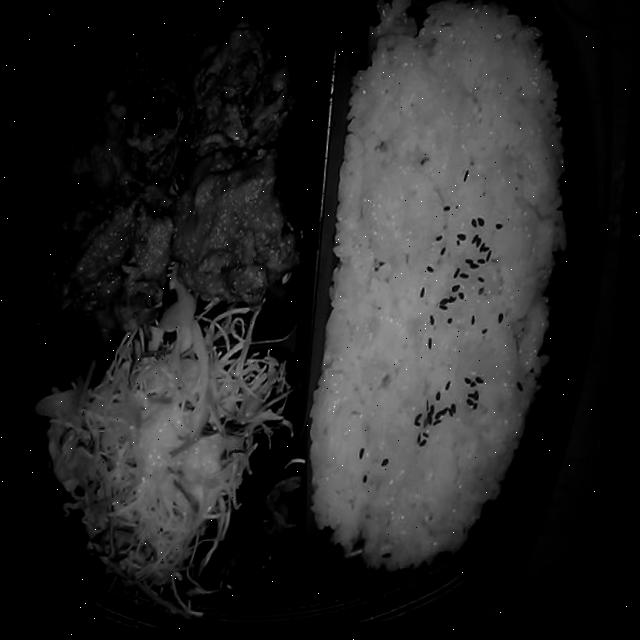米饭主食: (293, 0, 605, 601)
蔬菜料理: (28, 313, 292, 600)
鸡肉料理 含炸鸡: (36, 15, 329, 338)
